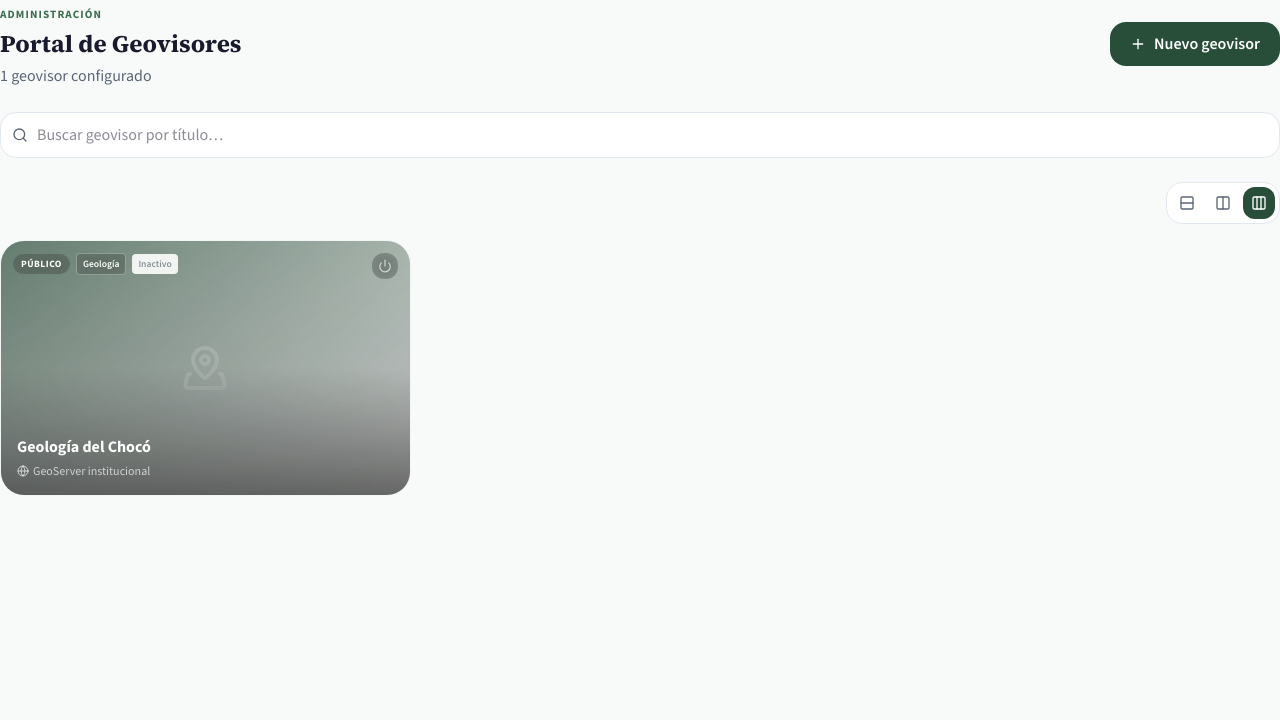
Test case: GestionGeovisores — activar/desactivar › cerrar el diálogo de bloqueo sin editar simplemente lo descarta
The image size is (1280, 720).
Click the button titled "Activar" at (385,266), box left=372, top=253, right=398, bottom=279
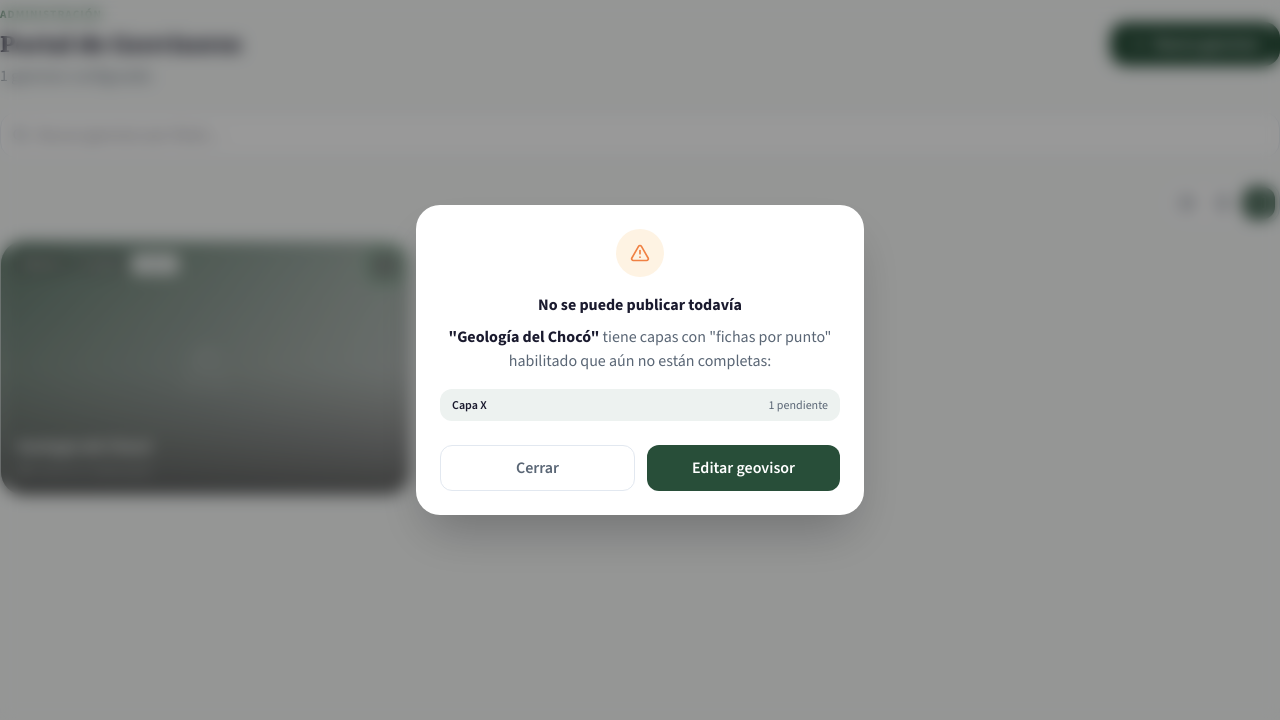
Expected: the heading "No se puede publicar todavía" is shown, left=538, top=294, right=742, bottom=315
Click the button "Cerrar" at (538,468), box left=440, top=445, right=635, bottom=491
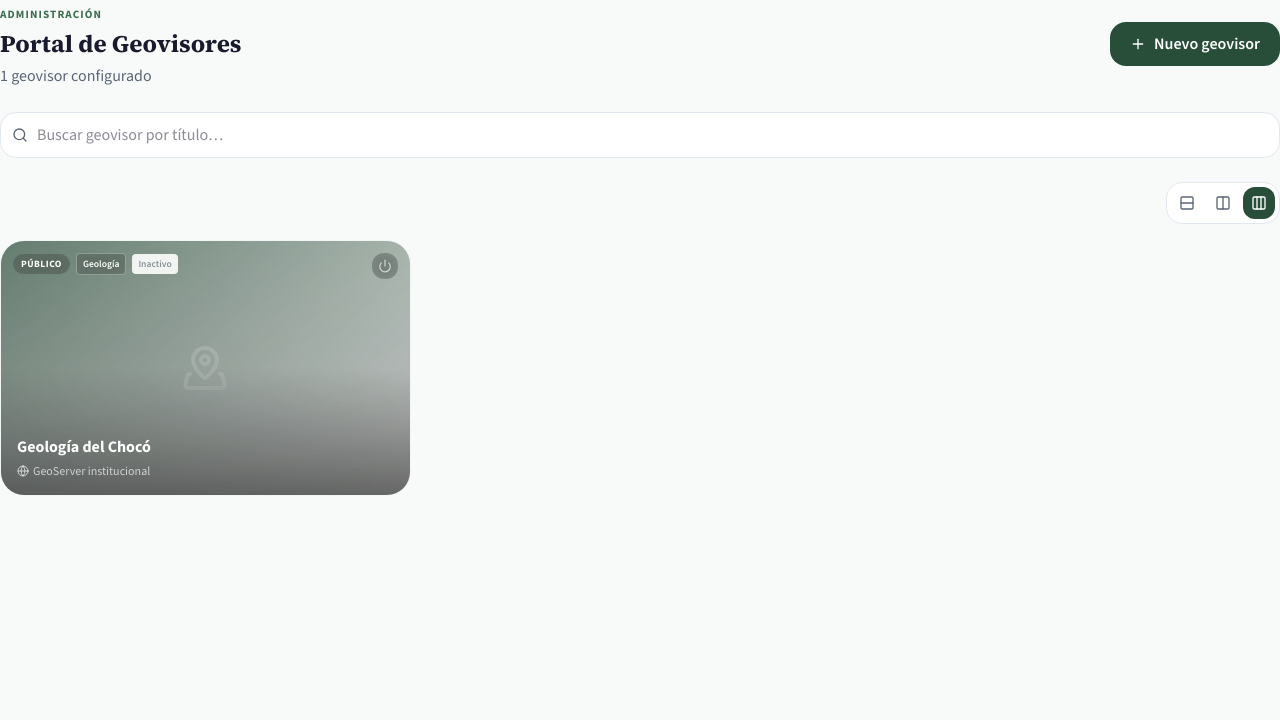
Expected: the heading "No se puede publicar todavía" is gone
Expected: the button "Editar geovisor" is gone
